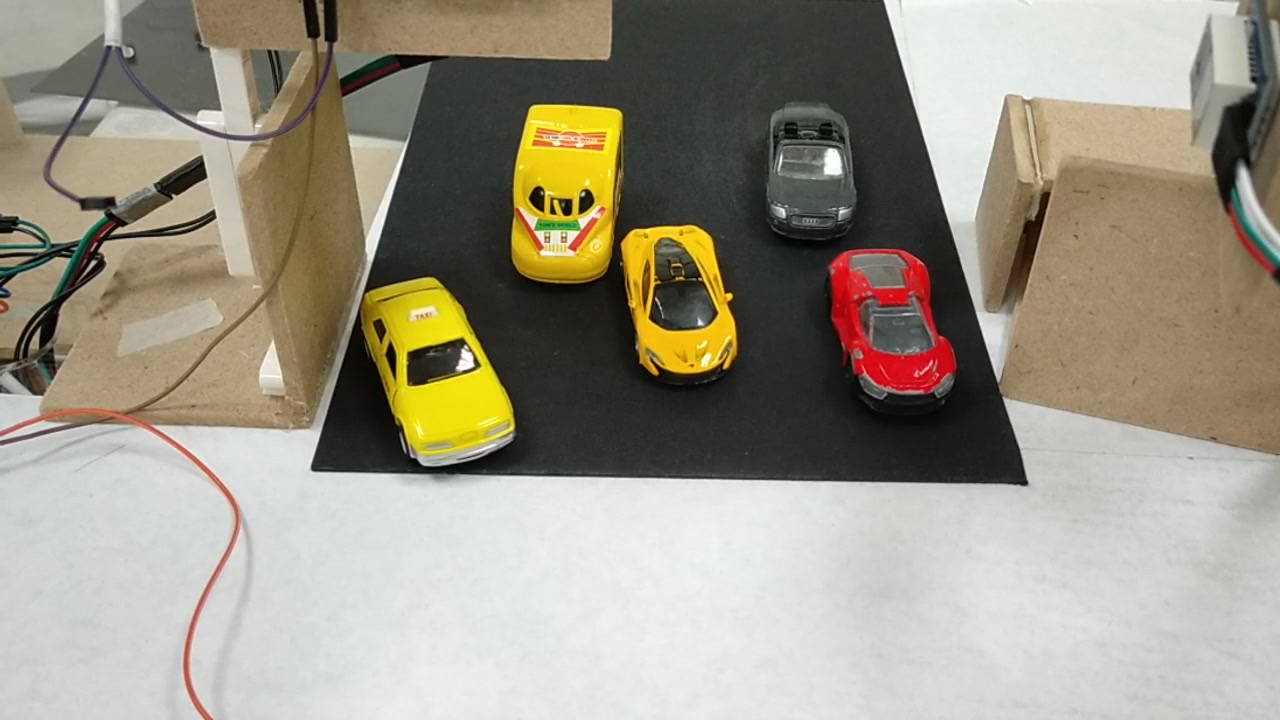car: (357, 281, 519, 469), (821, 252, 960, 415), (616, 226, 738, 388), (761, 102, 858, 239)
